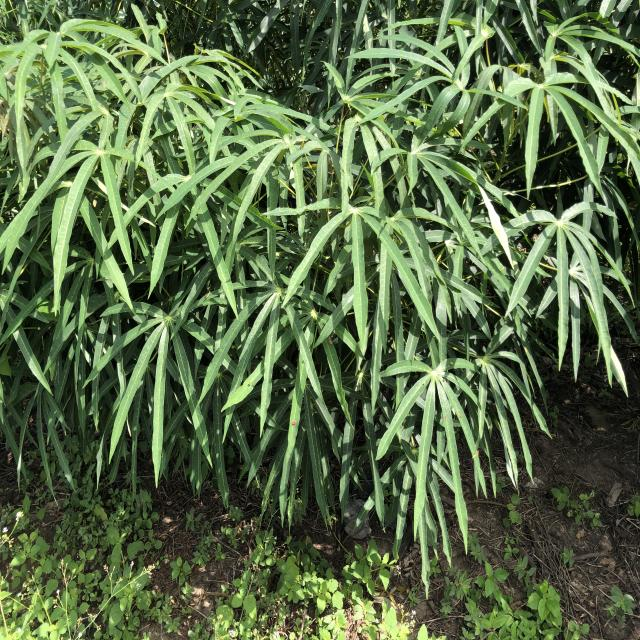Maleza: (2, 502, 157, 640)
Mosca: (435, 382, 448, 399), (244, 376, 259, 389), (287, 419, 301, 431), (467, 447, 480, 458)
